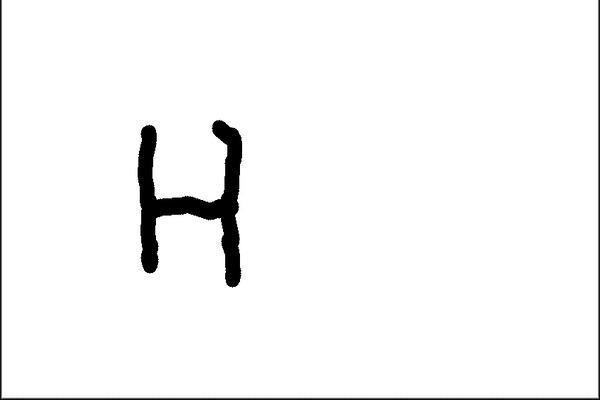H: (125, 116, 250, 289)
